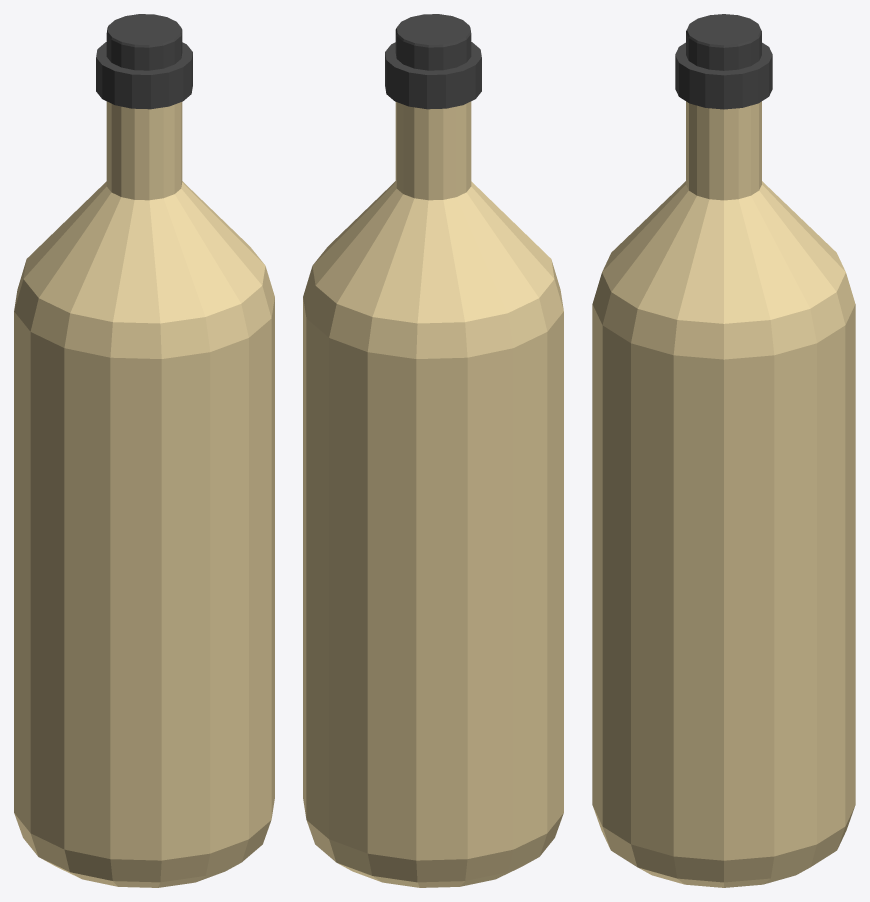
File: bottle.glb
3 views of the same model, side by side, from view 1: azimuth 30°, elevation 25°; view 2: azimuth 150°, elevation 25°; view 3: azimuth 270°, elevation 25° (orthographic).
Visible parts, largest first — view 1: Bottle_1; view 2: Bottle_1; view 3: Bottle_1.
Boxes of the visible parts, left/top/right/bottom form: Bottle_1: left=14, top=14, right=274, bottom=887; Bottle_1: left=303, top=14, right=563, bottom=887; Bottle_1: left=592, top=14, right=855, bottom=887.
Bounding box in the file's own units: 0.2101 × 0.7186 × 0.2101.
